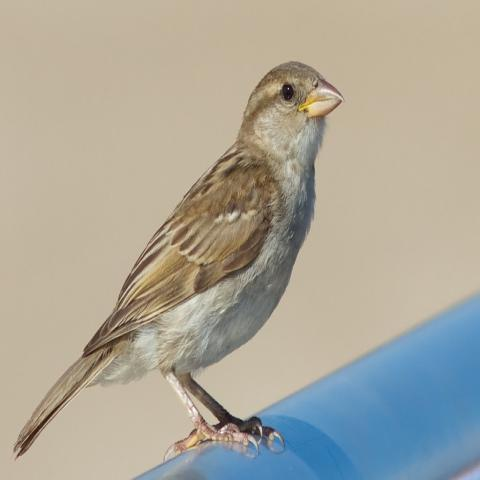bird: (12, 57, 346, 463)
